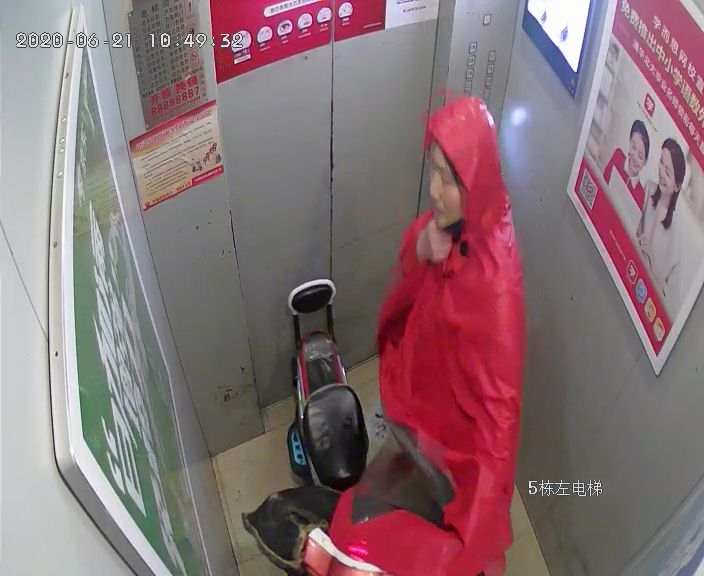Electric-bicycle: (269, 278, 432, 576)
